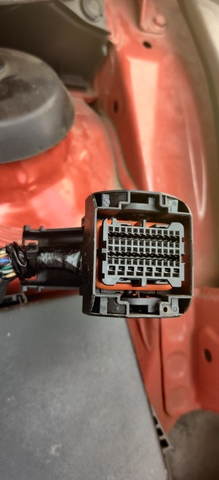connector: (81, 190, 195, 319)
